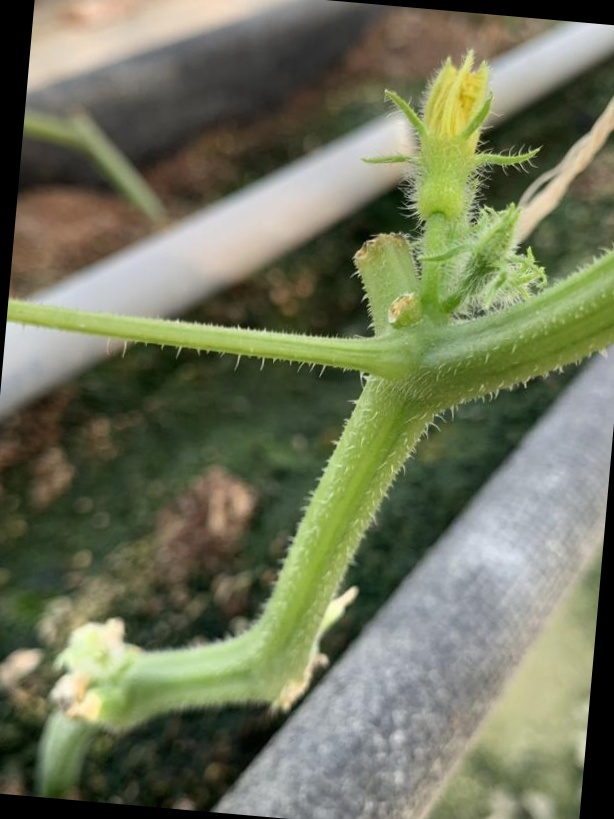bud: (378, 55, 513, 235)
